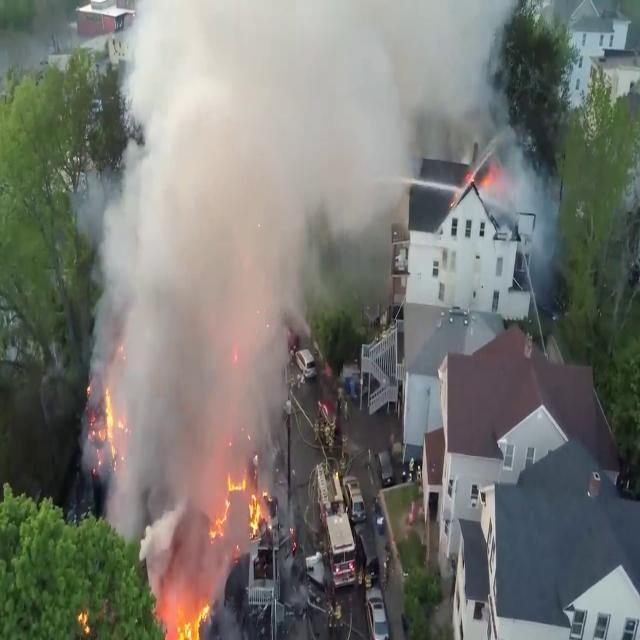Fire: (213, 468, 273, 539), (160, 585, 212, 640), (95, 382, 125, 462)
Smoke: (59, 2, 476, 485), (478, 100, 562, 278)
